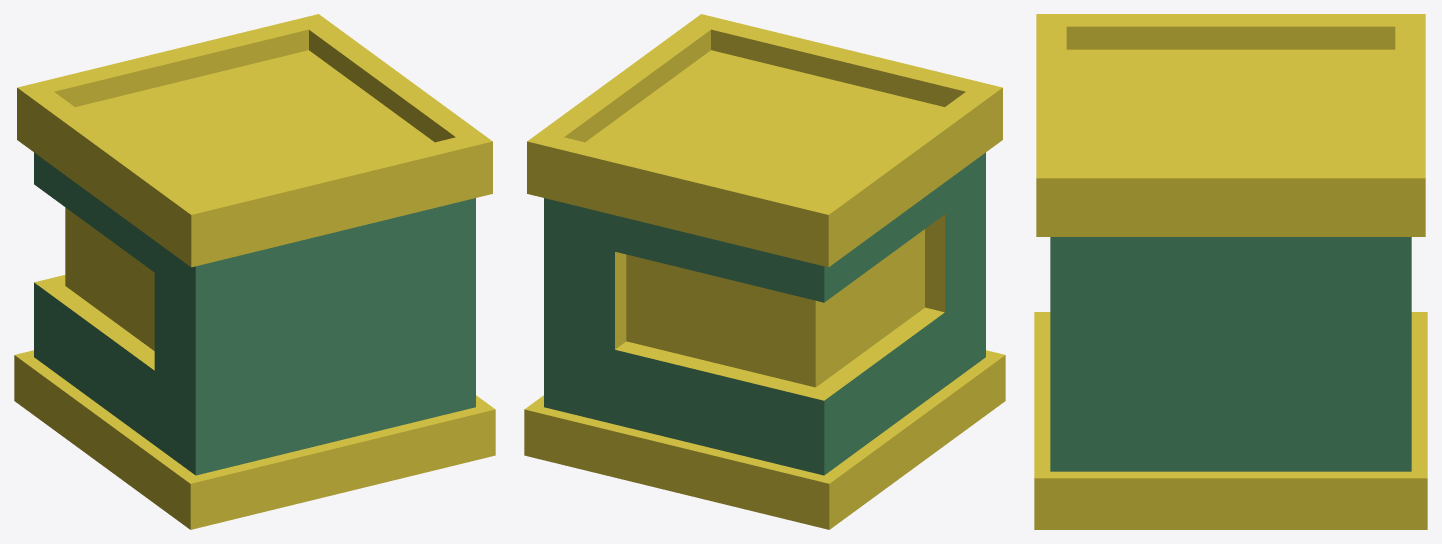
File: Map-House-S-Lv1.001.fbx
3 views of the same model, side by side, from view 1: azimuth 30°, elevation 25°; view 2: azimuth 150°, elevation 25°; view 3: azimuth 270°, elevation 25° (orthographic). The views are drawn at different scales.
Parts seen in each view (by area): view 1: Map-House-S-Lv1.001; view 2: Map-House-S-Lv1.001; view 3: Map-House-S-Lv1.001.
Boxes of the visible parts, x1=… form: Map-House-S-Lv1.001: x1=14, y1=14, x2=495, y2=529; Map-House-S-Lv1.001: x1=524, y1=14, x2=1005, y2=529; Map-House-S-Lv1.001: x1=1034, y1=14, x2=1427, y2=529.
Bounding box in the file's own units: 1.32 × 1.3 × 1.32.
